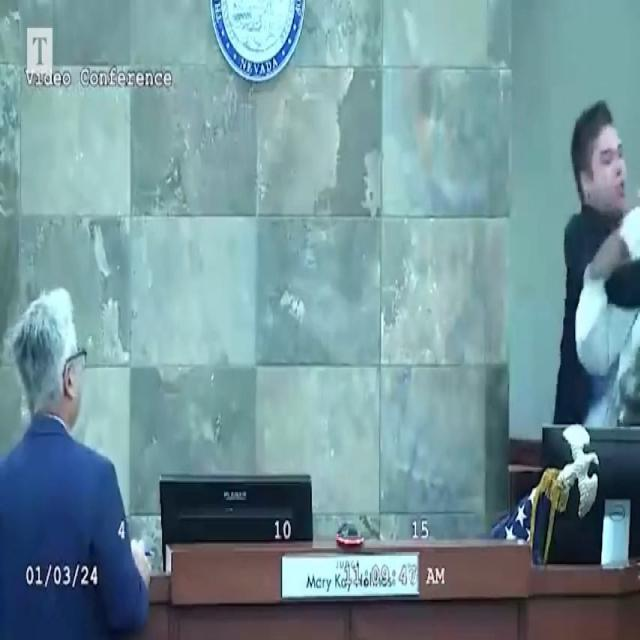fight: (553, 99, 640, 539)
non-fight: (0, 264, 157, 640)
